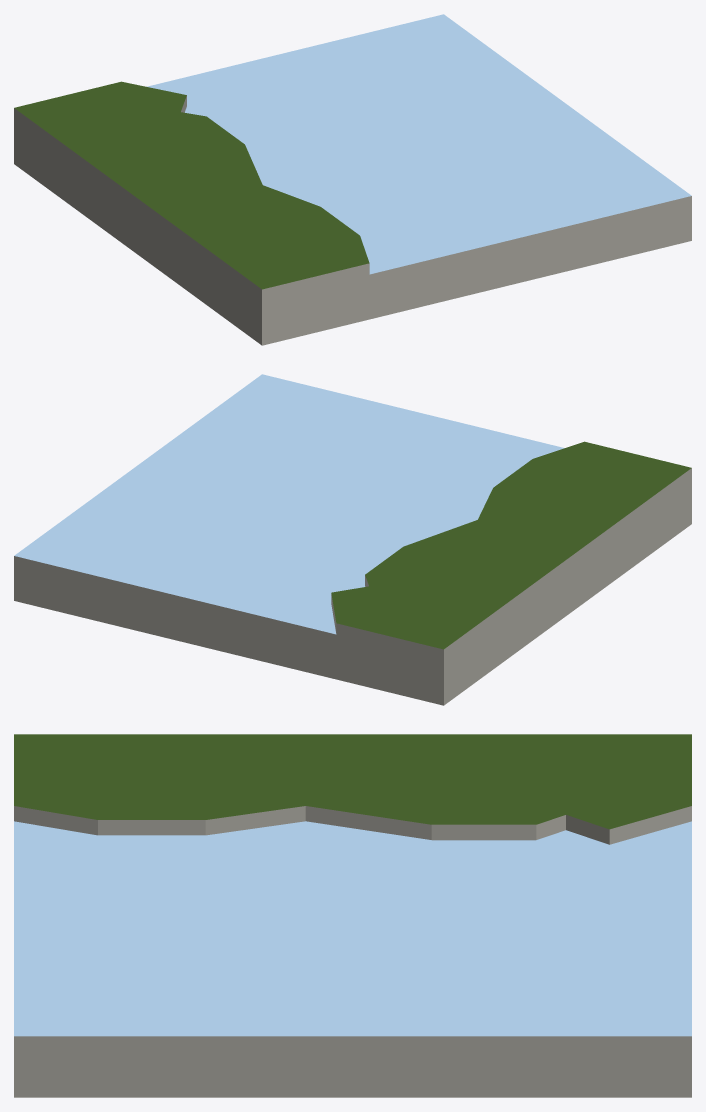
The model's file is Terrain_Tile_Grass_Rock_Water_Bank_01.fbx.
3 renders of one model, top to bottom at view 1: azimuth 30°, elevation 25°; view 2: azimuth 150°, elevation 25°; view 3: azimuth 270°, elevation 25°, orthographic. The views are drawn at different scales.
Visible parts, largest first — view 1: Terrain_Tile_Grass_Rock_Water_Bank_01; view 2: Terrain_Tile_Grass_Rock_Water_Bank_01; view 3: Terrain_Tile_Grass_Rock_Water_Bank_01.
Part boxes in pixels (x1,y1,x2,y2): Terrain_Tile_Grass_Rock_Water_Bank_01: (14,14,691,345); Terrain_Tile_Grass_Rock_Water_Bank_01: (14,374,691,705); Terrain_Tile_Grass_Rock_Water_Bank_01: (14,734,691,1097).
Bounding box in the file's own units: 126 × 15.75 × 126.
